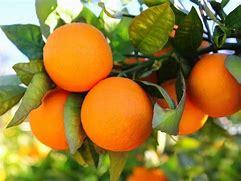orange: (19, 88, 104, 159), (89, 77, 164, 154), (41, 21, 116, 91), (180, 42, 237, 112)
